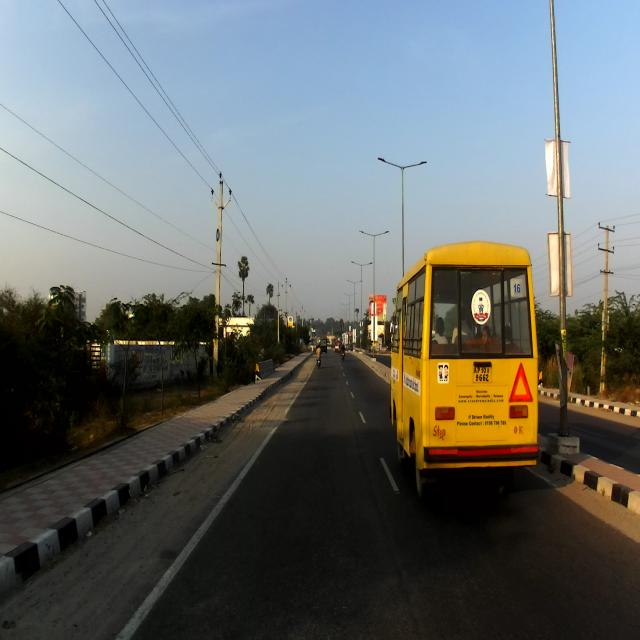bus ahead at: (392, 245, 544, 492)
